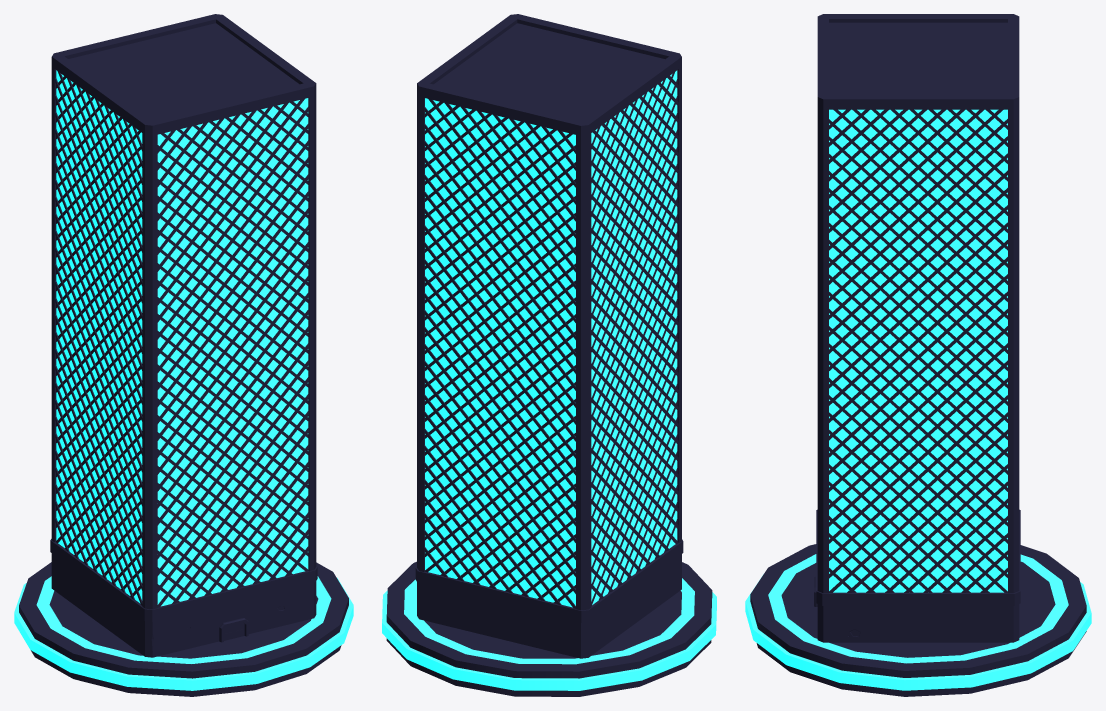
The model's file is House2.fbx.
3 views of the same model, side by side, from view 1: azimuth 30°, elevation 25°; view 2: azimuth 150°, elevation 25°; view 3: azimuth 270°, elevation 25° (orthographic). The views are drawn at different scales.
Visible parts, largest first — view 1: House2; view 2: House2; view 3: House2.
Part boxes in pixels (x1,y1,x2,y2): House2: [14, 14, 353, 696]; House2: [382, 14, 716, 696]; House2: [745, 14, 1091, 696].
Bounding box in the file's own units: 3429 × 6370 × 3429.
